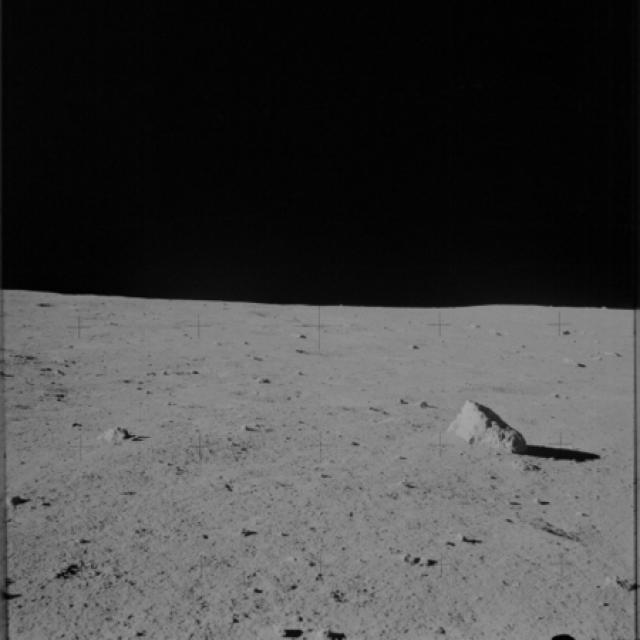rock: (438, 398, 530, 463), (90, 419, 130, 456)
